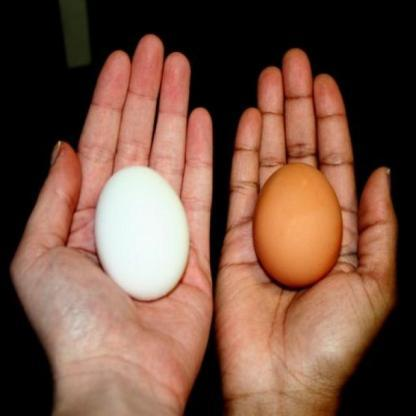egg: (90, 166, 201, 325), (256, 150, 351, 303)
